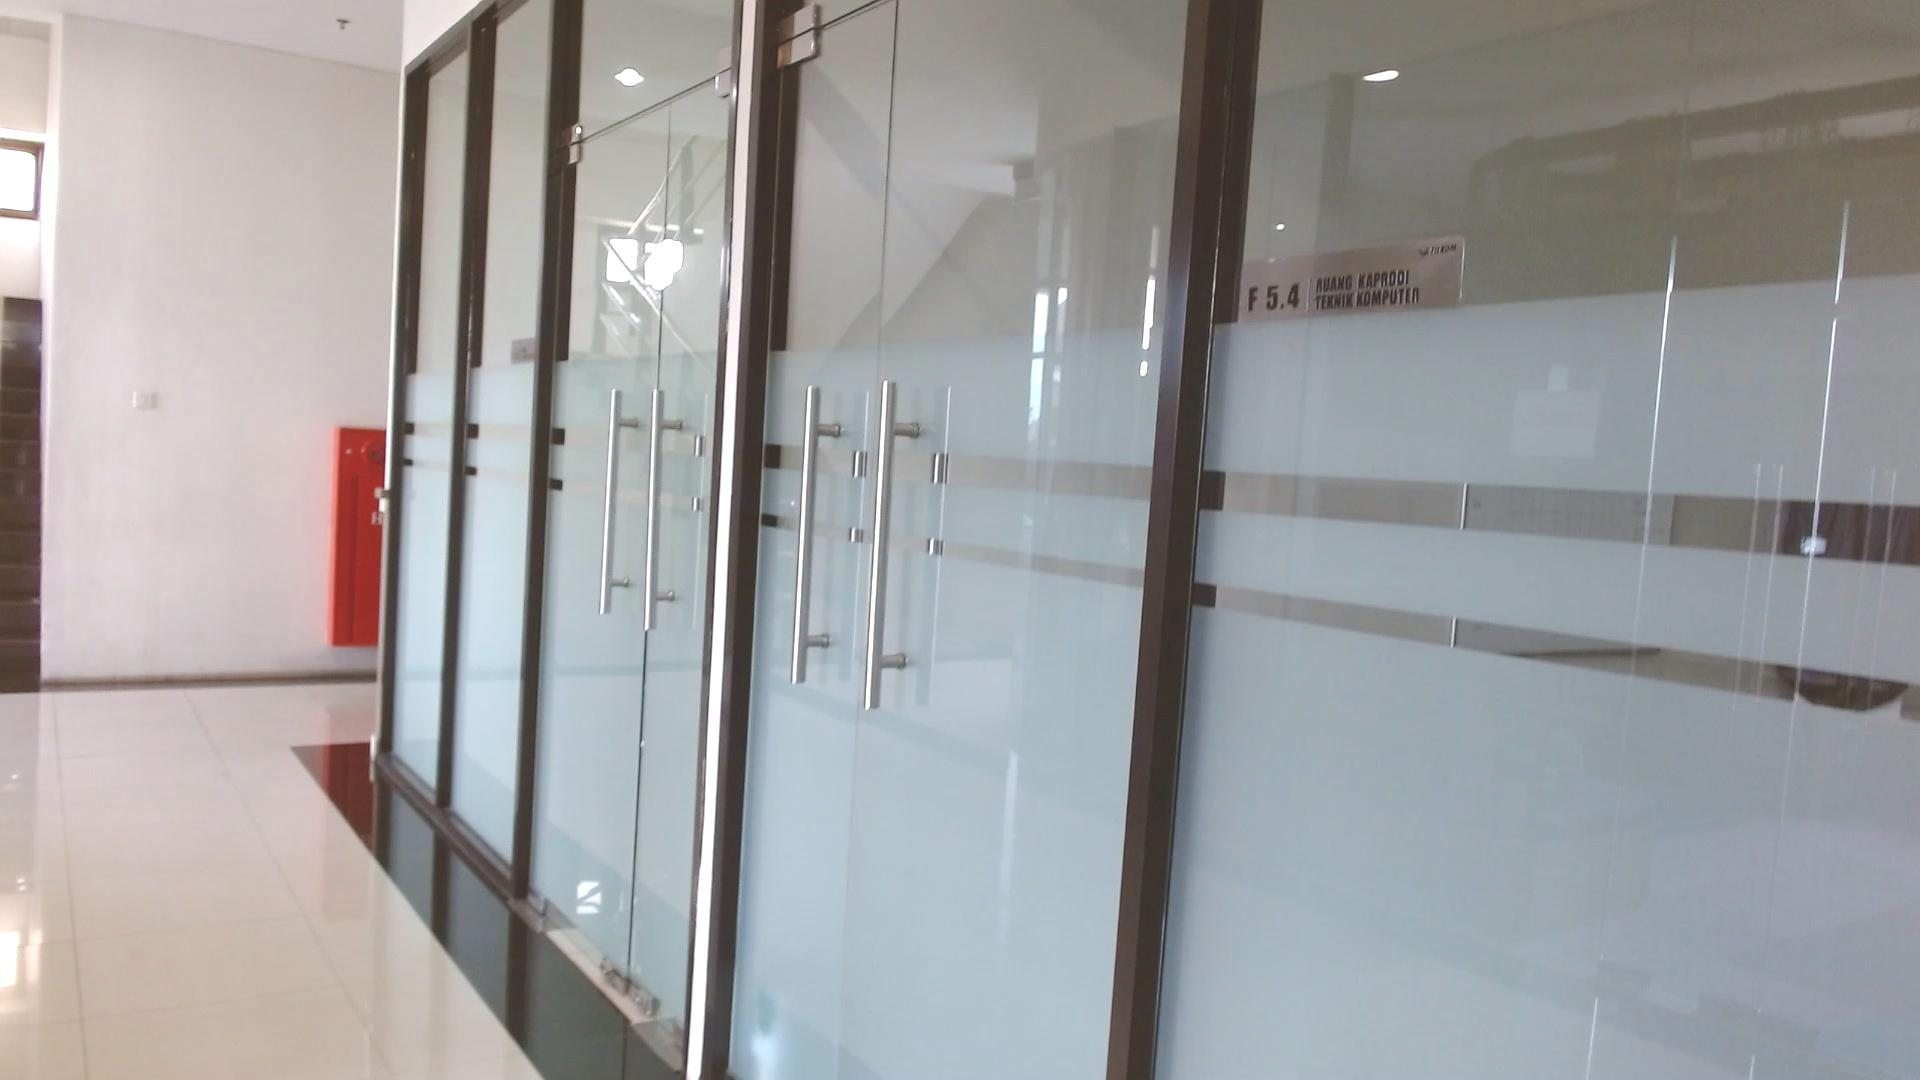plate: (1241, 235, 1468, 327)
